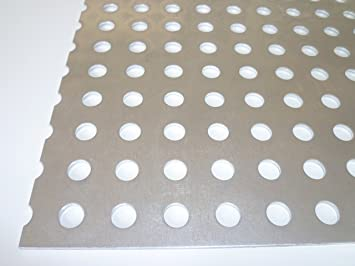Hole: (106, 199, 142, 233), (54, 198, 87, 232), (312, 196, 344, 229), (263, 197, 294, 230), (161, 200, 192, 232), (212, 199, 242, 229), (207, 155, 239, 183), (255, 154, 283, 184), (111, 155, 141, 183), (64, 156, 93, 184), (159, 119, 189, 145), (159, 156, 190, 181), (300, 155, 328, 181), (116, 120, 144, 143), (291, 119, 315, 145), (248, 119, 275, 142), (73, 120, 99, 143), (205, 120, 232, 142), (161, 87, 186, 110), (281, 88, 305, 111), (330, 121, 355, 143), (318, 90, 343, 112), (307, 63, 331, 85), (242, 89, 266, 110), (121, 89, 146, 109), (201, 90, 227, 109), (78, 89, 103, 108), (230, 39, 255, 58), (199, 62, 222, 82), (89, 37, 114, 55), (125, 38, 151, 55), (273, 63, 295, 83), (236, 63, 259, 82), (85, 62, 109, 80), (123, 62, 146, 80), (162, 63, 186, 80), (331, 43, 353, 61), (161, 17, 184, 34), (266, 40, 286, 58), (300, 43, 322, 59), (197, 39, 219, 55), (322, 23, 344, 39), (162, 39, 183, 55), (162, 1, 184, 16), (128, 19, 149, 34), (227, 20, 248, 35), (290, 22, 311, 37), (99, 1, 121, 15), (96, 18, 116, 33), (195, 19, 215, 34), (259, 21, 279, 36), (194, 2, 213, 16), (131, 1, 150, 15), (313, 6, 331, 20), (284, 5, 302, 19), (224, 3, 243, 16), (255, 4, 273, 17)
